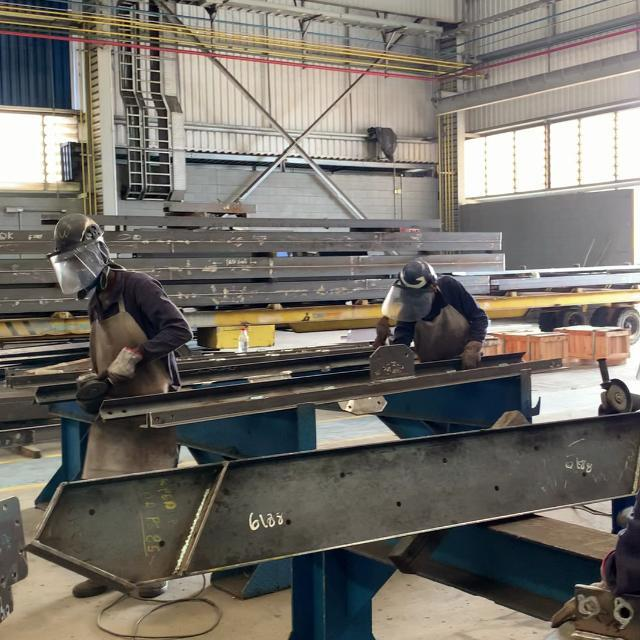eye-glass: (46, 241, 106, 295), (398, 287, 434, 322)
face-shield: (103, 346, 141, 378), (457, 339, 482, 366)
glove: (52, 208, 102, 251), (398, 262, 439, 284)
mask: (49, 211, 198, 383), (377, 258, 489, 367)
safety-shoe: (70, 579, 115, 598)
